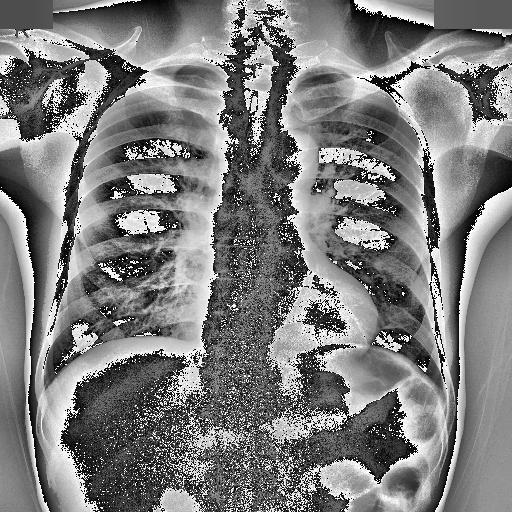0- Aortic enlargement: (264, 129, 317, 191), (262, 130, 318, 186)
13- Pulmonary fibrosis: (381, 322, 412, 334), (382, 322, 404, 330)
